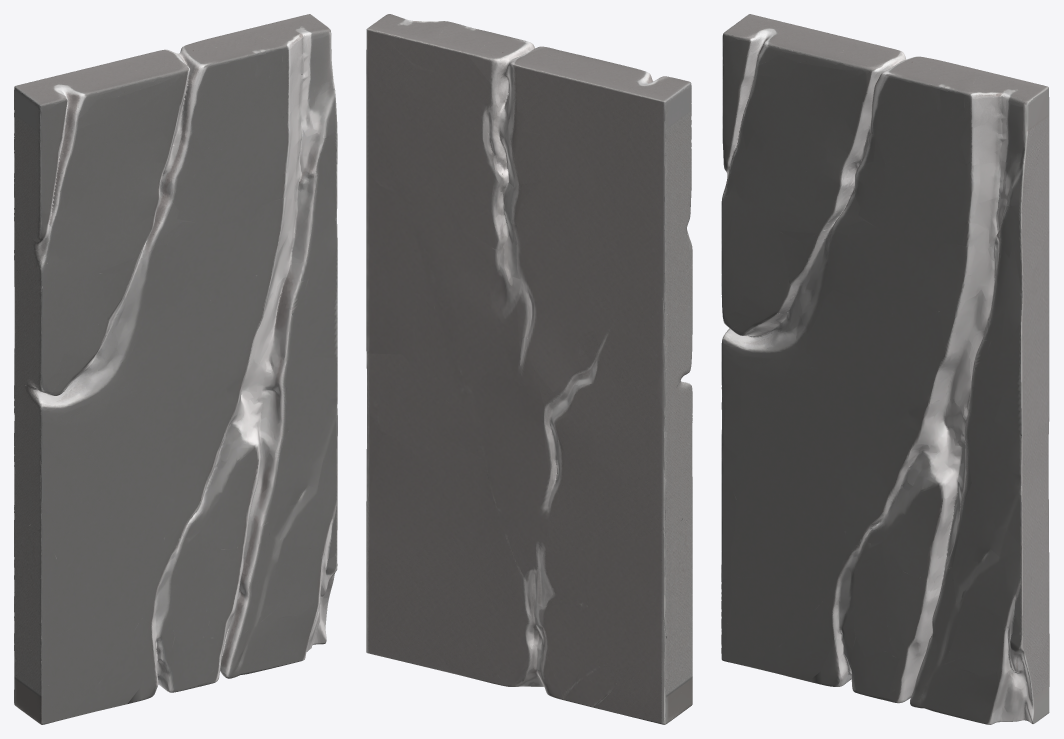
Rendered from TIL-KAJ-GP00215.glb.
3 views of the same model, side by side, from view 1: azimuth 30°, elevation 25°; view 2: azimuth 150°, elevation 25°; view 3: azimuth 330°, elevation 25° (orthographic).
Parts seen in each view (by area): view 1: mesh_node; view 2: mesh_node; view 3: mesh_node.
Boxes of the visible parts, box(x1,y1,x2,y2) form: mesh_node: box(14, 14, 337, 724); mesh_node: box(366, 14, 692, 724); mesh_node: box(721, 14, 1049, 724).
Size of the model in its own units: 0.6011 by 1.2 by 0.1039.
1 material, 1 textured.
